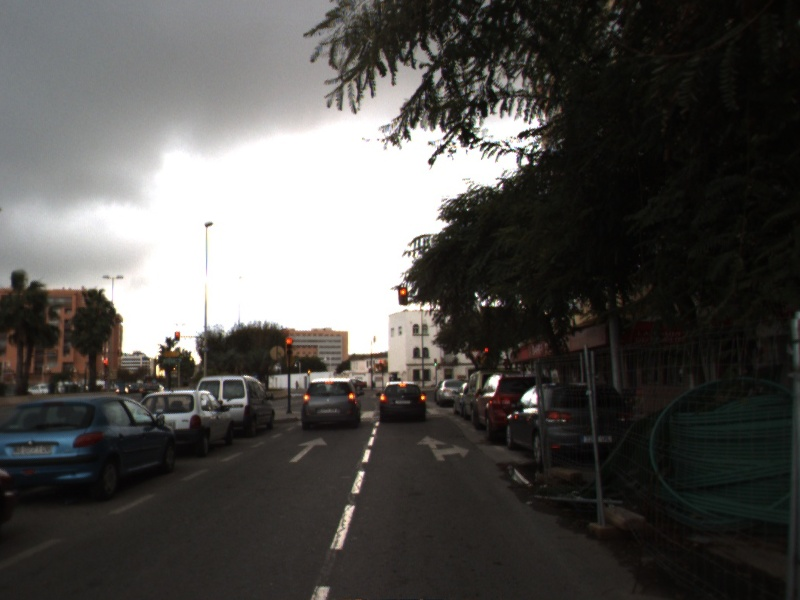STRAIGHT: (289, 436, 329, 463)
STRAIGHT_RIGHT: (415, 434, 471, 462)
